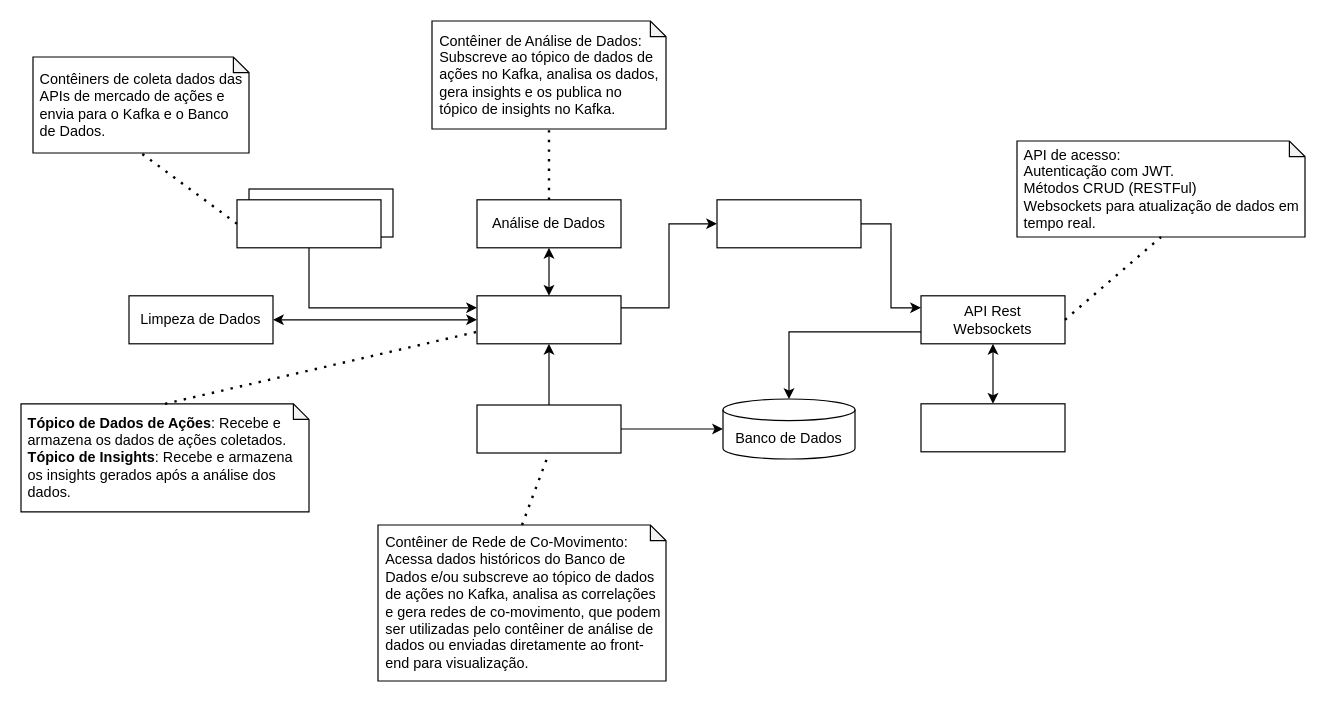
The diagram is 1326 pixels wide and 702 high, and some of its shapes have lost their labels. The centre of each missing label's shape, as x and y in pixels:
Apache Kafka: the point at 548,319
Blockchain: the point at 788,223
Coleta de Dados: the point at 308,223
Front-End: the point at 992,427
Rede de Co-Movimento: the point at 548,428
